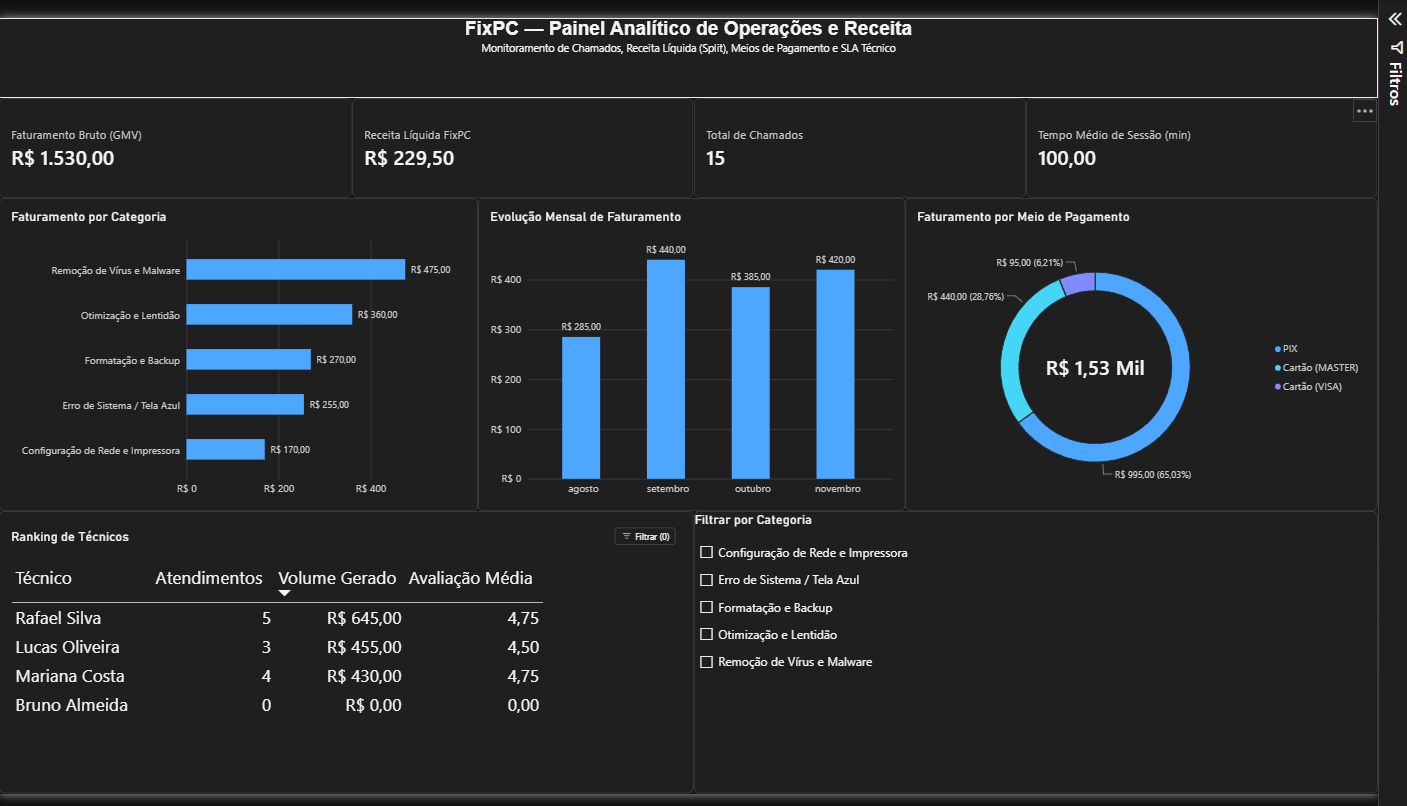

What the dashboard file says about the page in this screenshot:
{"tool":"powerbi","page":{"name":"Página 1","canvas":[1920,1080],"ordinal":0},"visuals":[{"type":"cardVisual","fields":{"Data":["public vw_chamados_analitico.Faturamento Bruto (GMV)"]},"box":[0,111,491.5,139.5],"z":0},{"type":"cardVisual","fields":{"Data":["Sum(public vw_chamados_analitico.receita_fixpc)"]},"box":[491.5,111,475.6,139.5],"z":1},{"type":"cardVisual","fields":{"Data":["CountNonNull(public vw_chamados_analitico.chamado_id)"]},"box":[967.1,111,463,139.5],"z":2},{"type":"cardVisual","fields":{"Data":["Avg(public vw_chamados_analitico.duracao_sessao_min)"]},"box":[1430.1,111,489.9,139.5],"z":3},{"type":"clusteredBarChart","title":"Faturamento por Categoria","fields":{"Category":["public vw_chamados_analitico.categoria"],"Y":["Sum(public vw_chamados_analitico.valor_bruto)"]},"box":[0,250.5,667.5,436],"z":4},{"type":"clusteredColumnChart","title":"Evolução Mensal de Faturamento","fields":{"Category":["public vw_chamados_analitico.mes_abertura.Variação.Hierarquia de datas.Mês"],"Y":["Sum(public vw_chamados_analitico.valor_bruto)"]},"box":[667.5,250.5,594.5,436],"z":5},{"type":"donutChart","title":"Faturamento por Meio de Pagamento","fields":{"Category":["public vw_transacoes_analitico.meio_pagamento"],"Y":["Sum(public vw_transacoes_analitico.valor_bruto)"]},"box":[1262,250.5,658,436],"z":6},{"type":"tableEx","title":"Ranking de Técnicos","fields":{"Values":["public vw_ranking_tecnicos.tecnico_nome","public vw_ranking_tecnicos.atendimentos_pagos","public vw_ranking_tecnicos.volume_gerado","public vw_ranking_tecnicos.nota_media"]},"box":[0,686.5,967.1,393.2],"z":7},{"type":"slicer","title":"Filtrar por Categoria","fields":{"Values":["public vw_chamados_analitico.categoria"]},"box":[967.7,686.4,952.3,392.6],"z":8},{"type":"textbox","box":[0,0,1920,111],"z":9}]}

Visuals, with their boxes on the page's 1920x1080 design canvas (x1, y1, x2, y2). These are canvas units, not pixel positions in the 1407x806 screenshot, which may show the page scaled, cropped or inside an application window:
cardVisual - public vw_chamados_analitico.Faturamento Bruto (GMV): x1=0, y1=111, x2=492, y2=250
cardVisual - Sum(public vw_chamados_analitico.receita_fixpc): x1=492, y1=111, x2=967, y2=250
cardVisual - CountNonNull(public vw_chamados_analitico.chamado_id): x1=967, y1=111, x2=1430, y2=250
cardVisual - Avg(public vw_chamados_analitico.duracao_sessao_min): x1=1430, y1=111, x2=1920, y2=250
"Faturamento por Categoria" clusteredBarChart: x1=0, y1=250, x2=668, y2=686
"Evolução Mensal de Faturamento" clusteredColumnChart: x1=668, y1=250, x2=1262, y2=686
"Faturamento por Meio de Pagamento" donutChart: x1=1262, y1=250, x2=1920, y2=686
"Ranking de Técnicos" tableEx: x1=0, y1=686, x2=967, y2=1080
"Filtrar por Categoria" slicer: x1=968, y1=686, x2=1920, y2=1079
textbox: x1=0, y1=0, x2=1920, y2=111
